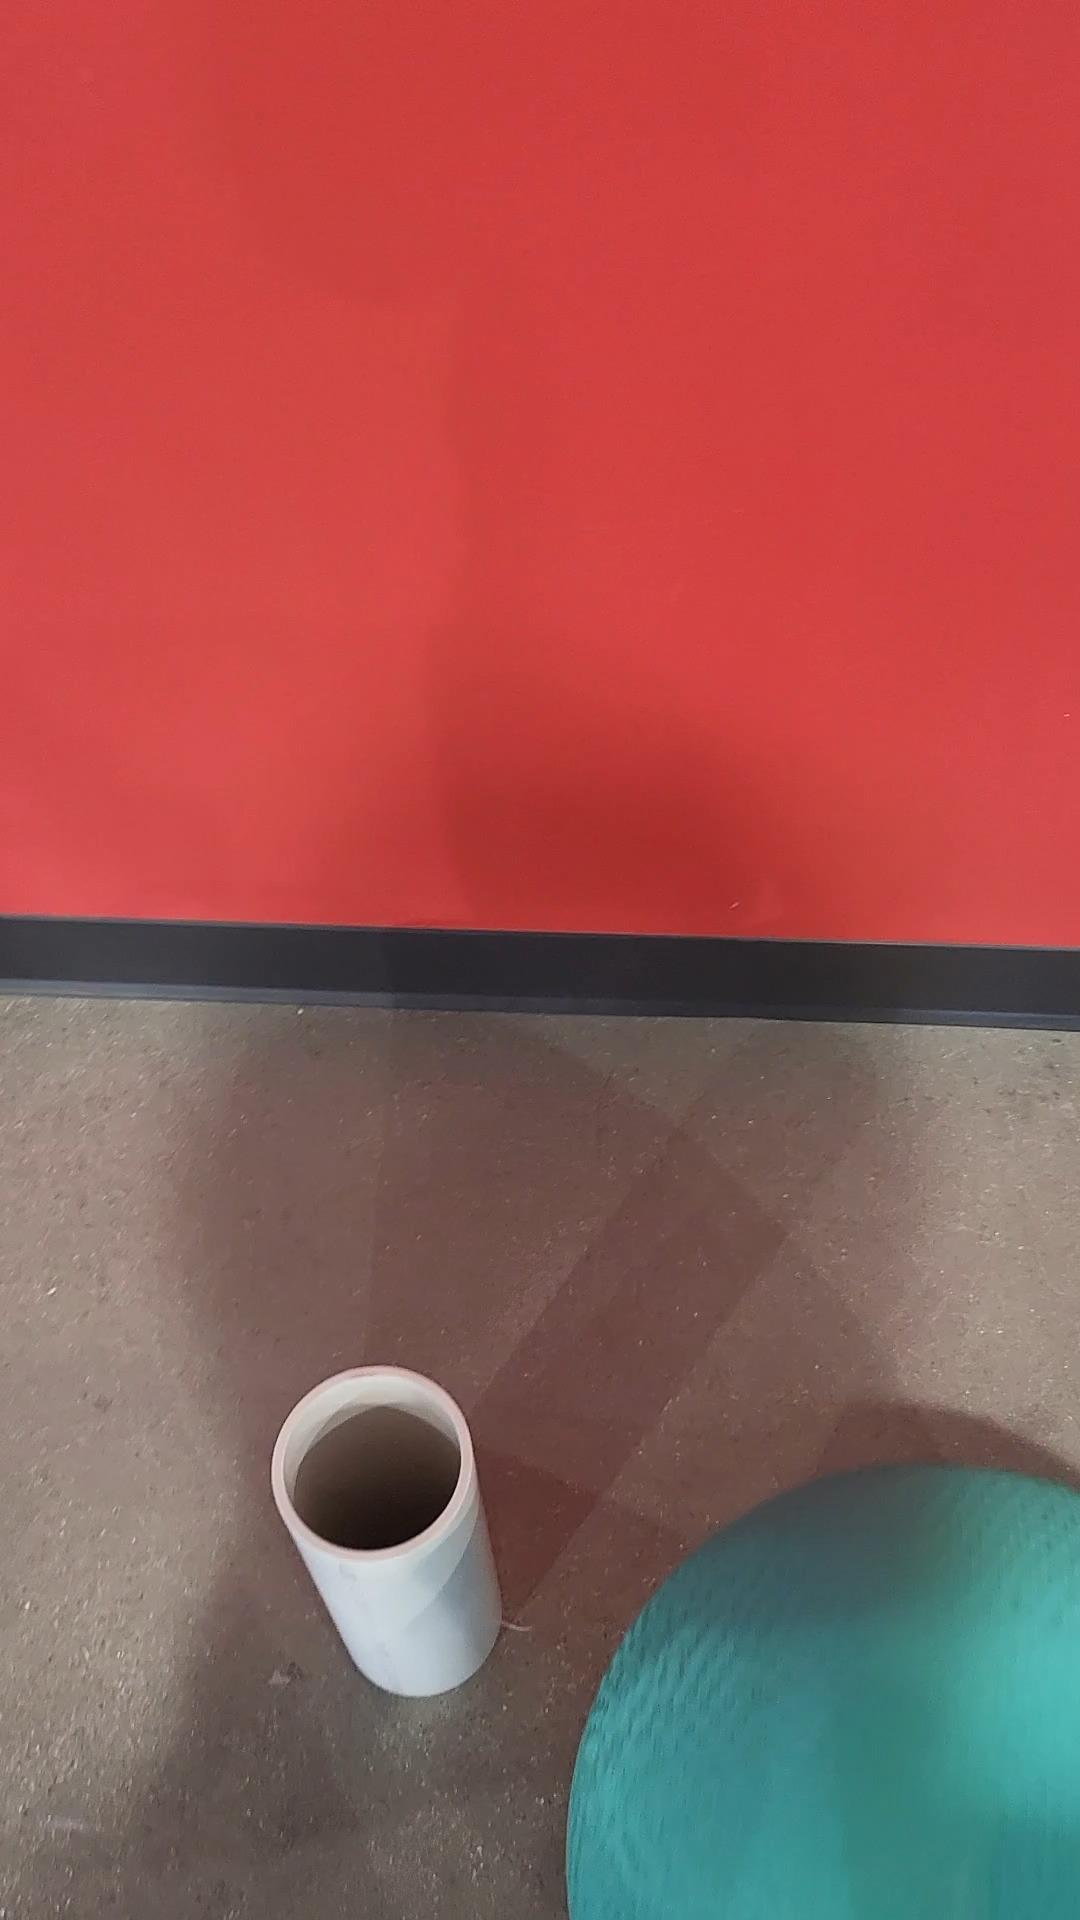algae: (559, 1456, 1079, 1920)
coral: (269, 1364, 505, 1695)
